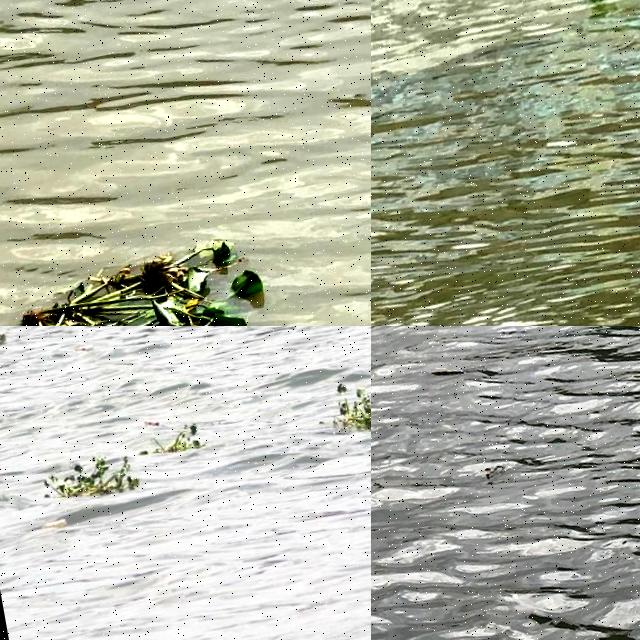water-hyacinth: (1, 228, 283, 327), (44, 450, 141, 505), (322, 355, 372, 436), (144, 422, 205, 458)
